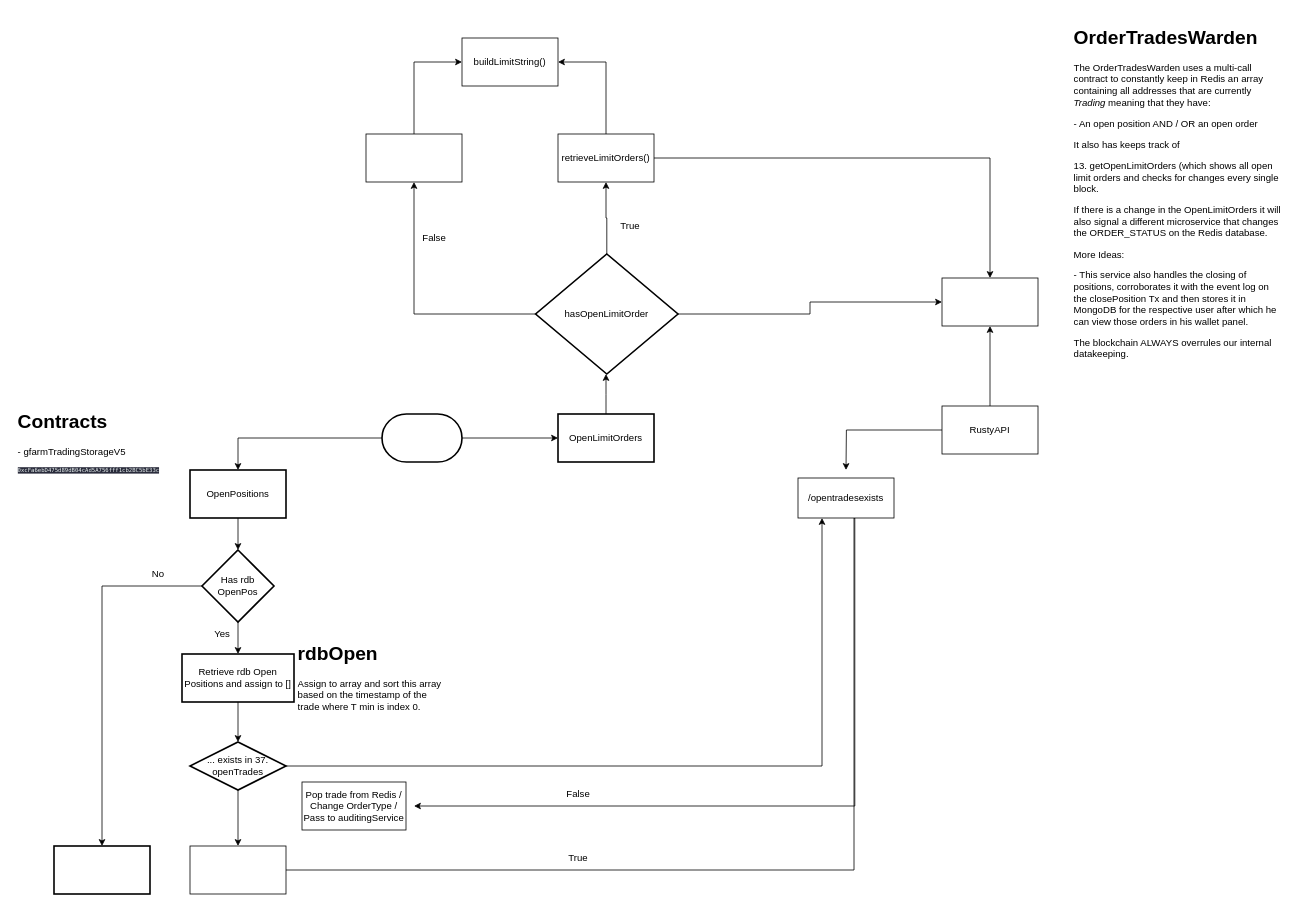
This 1299x908 diagram has some shape labels left out. The centre of each missing label's shape, as x and y in pixels:
"ActiveTrades" belongs at point 421,437.
"EmptyArray" belongs at point 413,157.
"OrderTradesWarden" belongs at point 989,301.
"Stringbuilder(false)" belongs at point 101,869.
"Stringbuilder(trades)" belongs at point 237,869.
